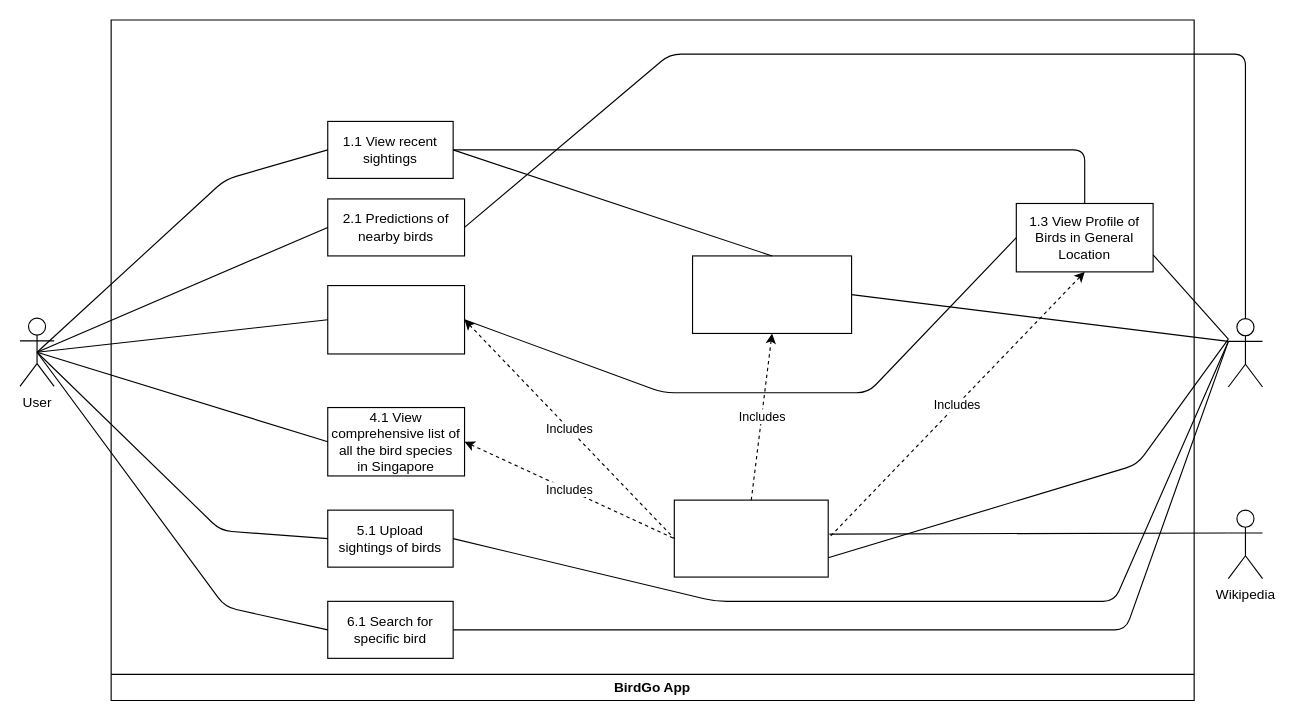
Image size: 1295x720. Some labels were removed from this diagram. Each missing label, with the box of its shape:
1.2 View Profile Information of Selected Bird: (691, 255, 852, 333)
3.1 View top three birds of interest (at bottom of app): (327, 284, 465, 354)
7.1 View Wikipedia page of the specific bird species: (673, 499, 828, 577)
Database: (1227, 317, 1263, 387)
